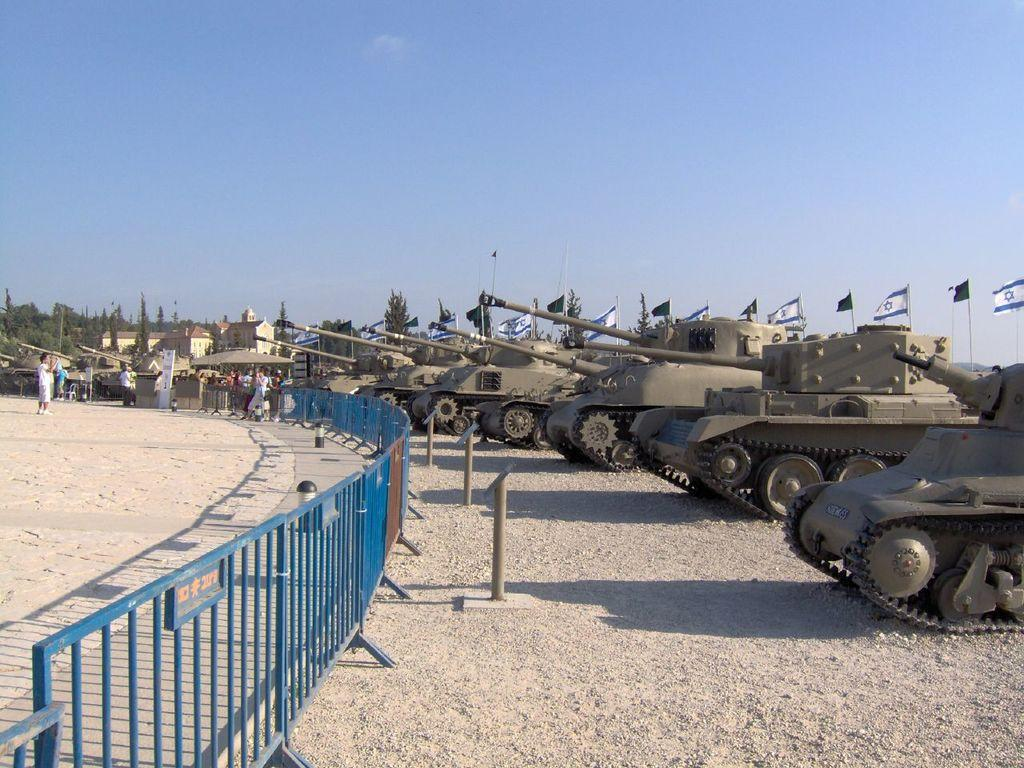Tank: (0, 290, 1023, 634)
